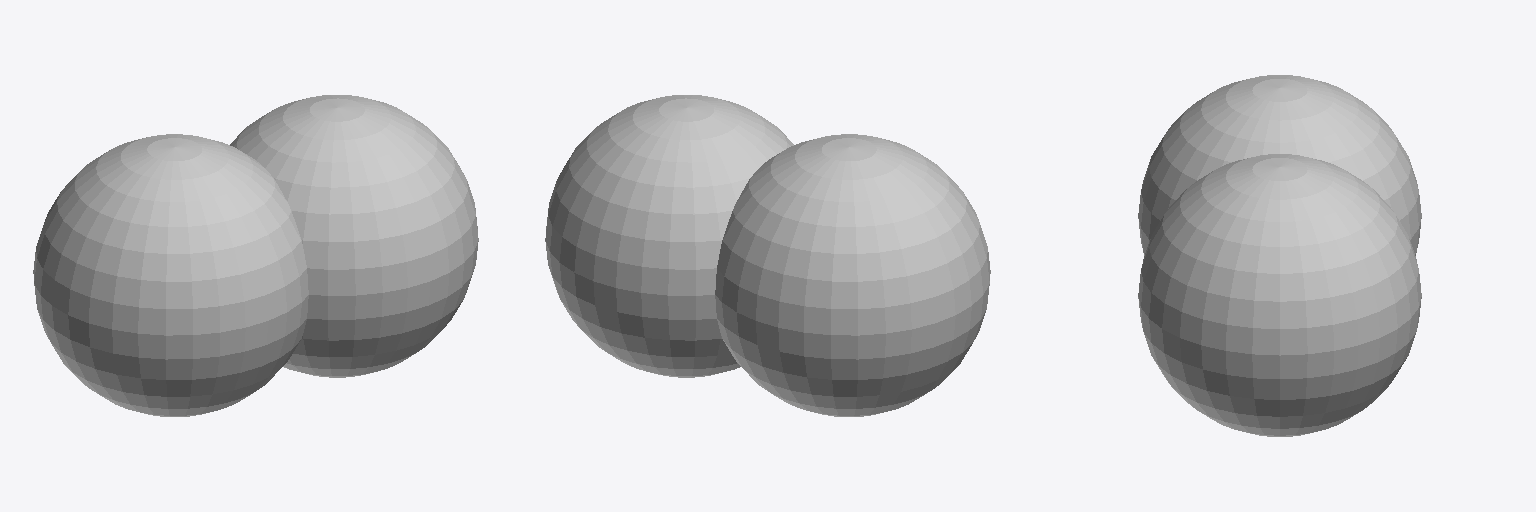
File: 2Spheres.obj
3 views of the same model, side by side, from view 1: azimuth 30°, elevation 25°; view 2: azimuth 150°, elevation 25°; view 3: azimuth 270°, elevation 25° (orthographic).
Visible parts, largest first — view 1: Sphere.001; view 2: Sphere.001; view 3: Sphere.001.
Part boxes in pixels (x1,y1,x2,y2): Sphere.001: (33,95,478,416); Sphere.001: (545,95,990,416); Sphere.001: (1138,75,1421,436).
Bounding box in the file's own units: 3.32 × 2 × 2.